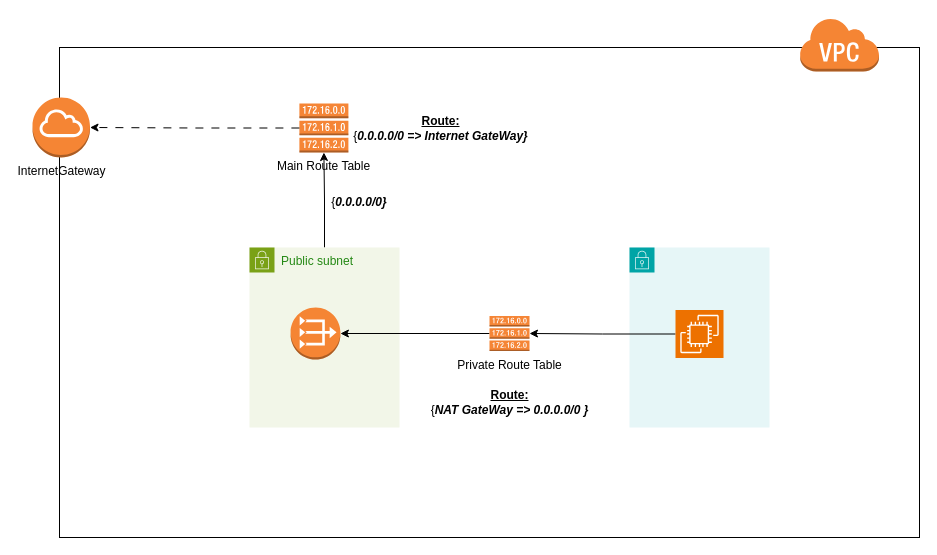
Image size: 937x555. Some labels were removed from this diagram. The shapes that lost their labels are listed below. From the top down, each one's box as (x1, y1, x2, y2) in pixels, then its label:
(290, 306, 340, 360): NAT
(628, 246, 770, 428): Private subnet
